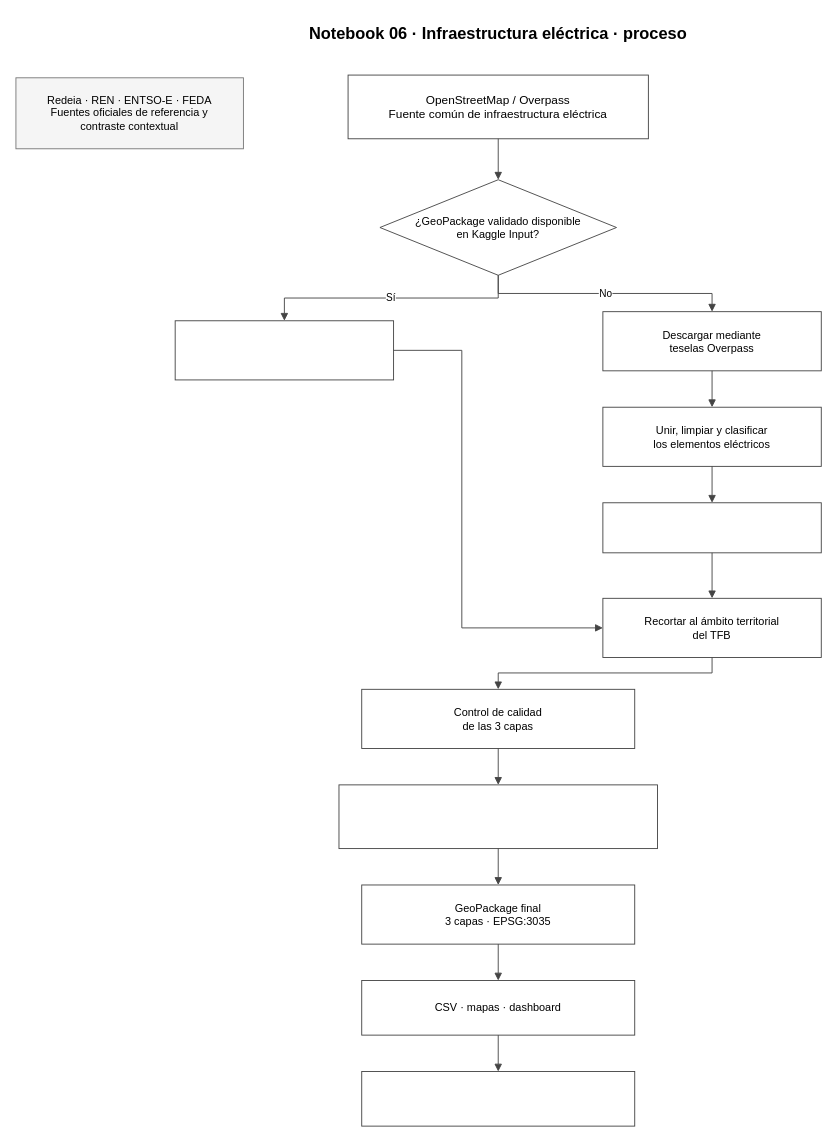
Some shapes in this 837 by 1142 pixel diagram are drawn without their labels. The centre of each missing label's shape, as x and y in pixels:
"Cargar 3 capas validadas EPSG:3035" belongs at point (284, 350).
"Trabajar en EPSG:3035" belongs at point (711, 527).
"Validación específica de Andorra 36 líneas · 12 alta tensión · 8 subestaciones" belongs at point (497, 816).
"ZIP final · 14 archivos" belongs at point (498, 1098).
